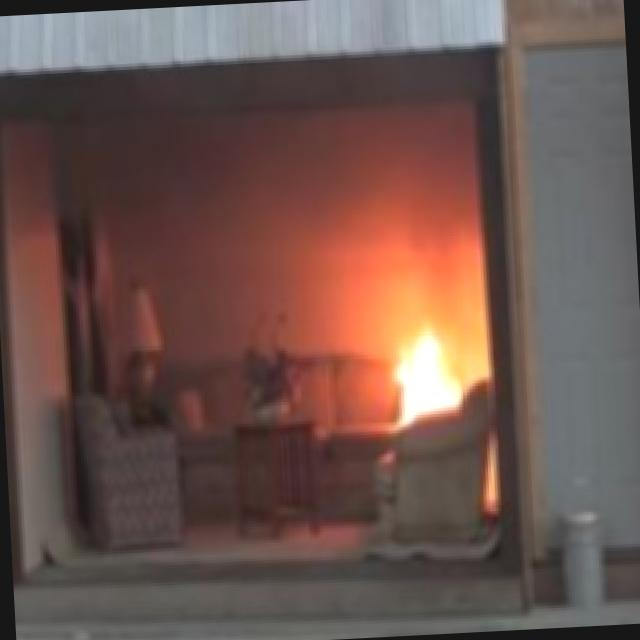fire: (359, 279, 496, 459)
